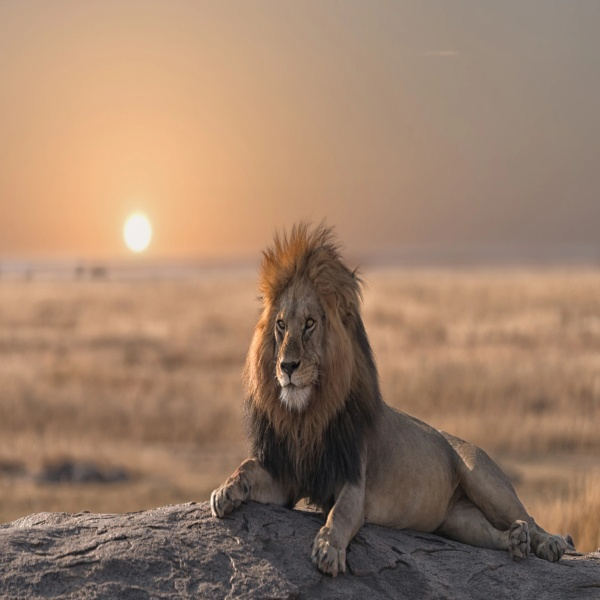Lion: (208, 217, 577, 580)
